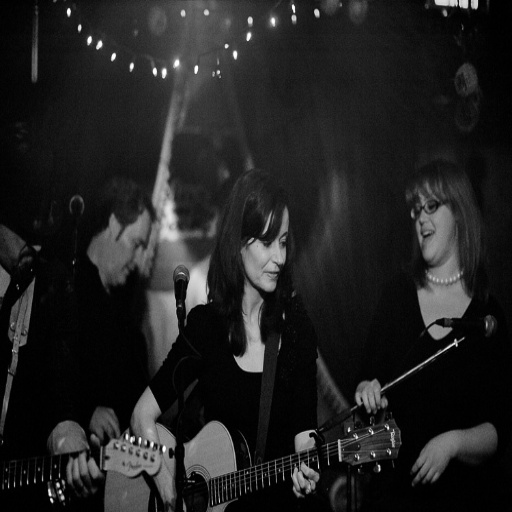hand: (417, 424, 471, 496), (64, 446, 103, 500), (352, 378, 391, 417), (90, 403, 122, 446), (290, 459, 320, 500), (159, 477, 188, 510)
